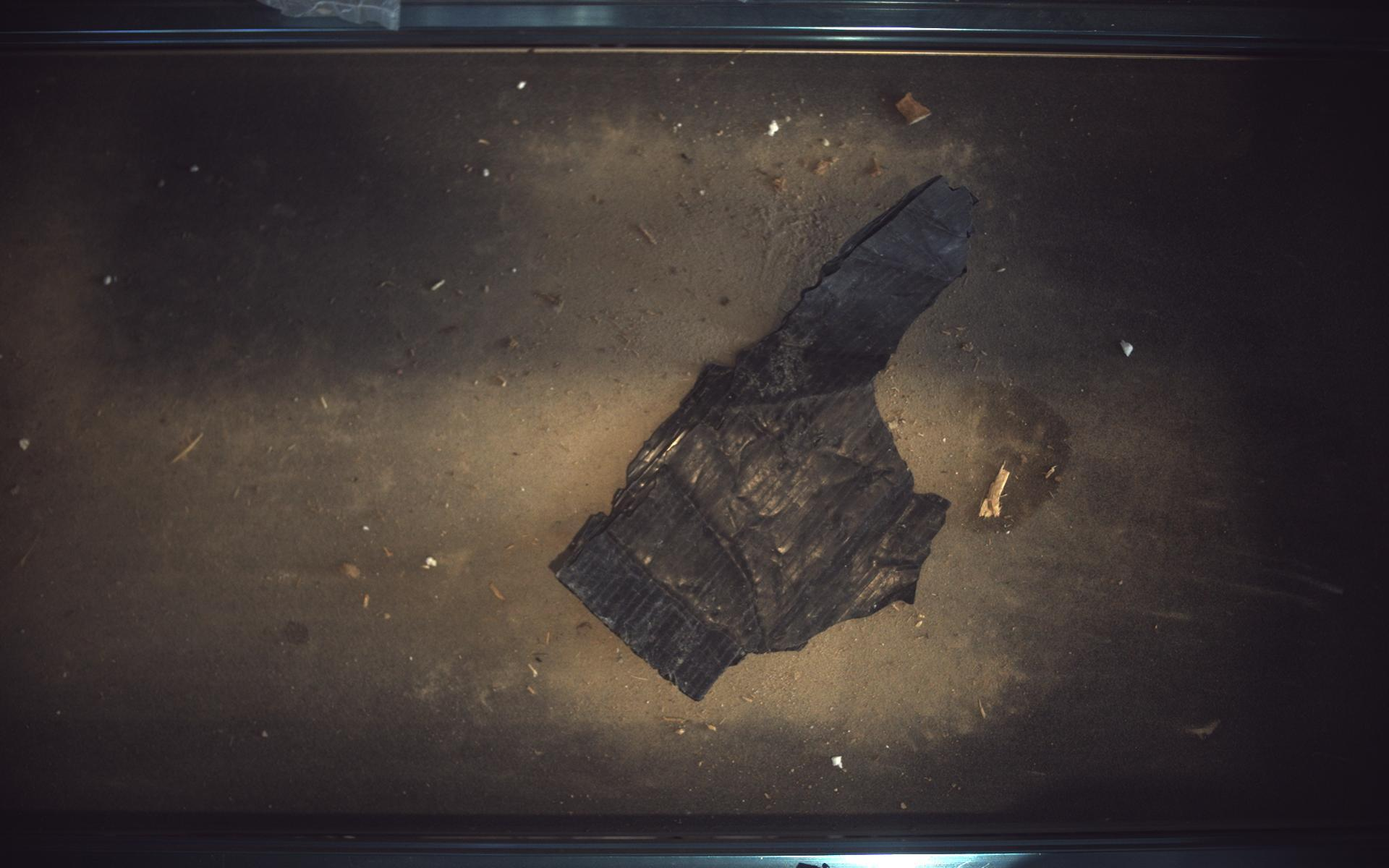plastic: (551, 176, 976, 702)
